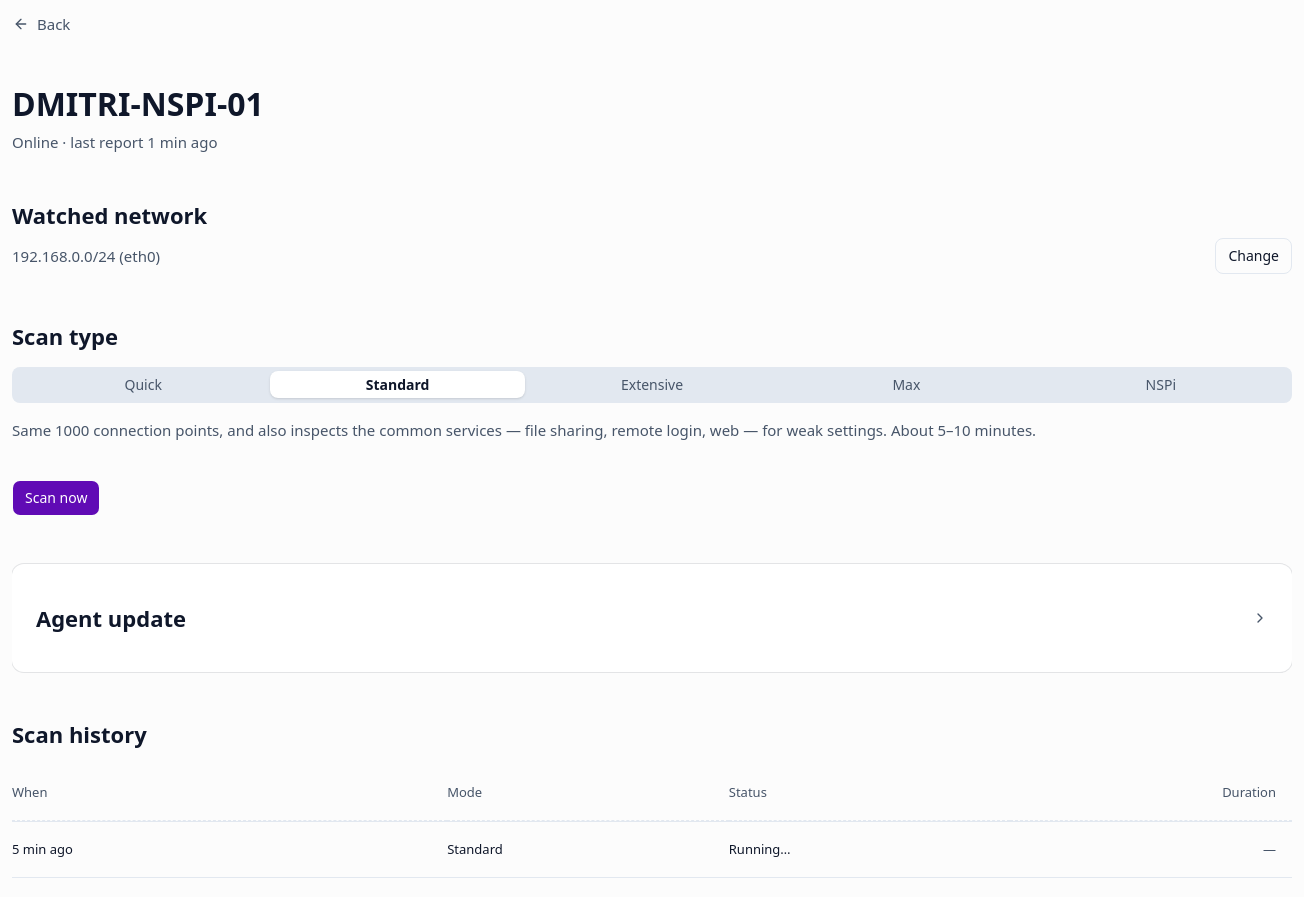
Scenario: DeviceDetail command lifecycle › refusals › toasts a stale-network refusal, re-reads, and returns to the chooser
Step 1. Click the button with test id "agents-scan-now" → (56, 498), box [12,480,100,516]
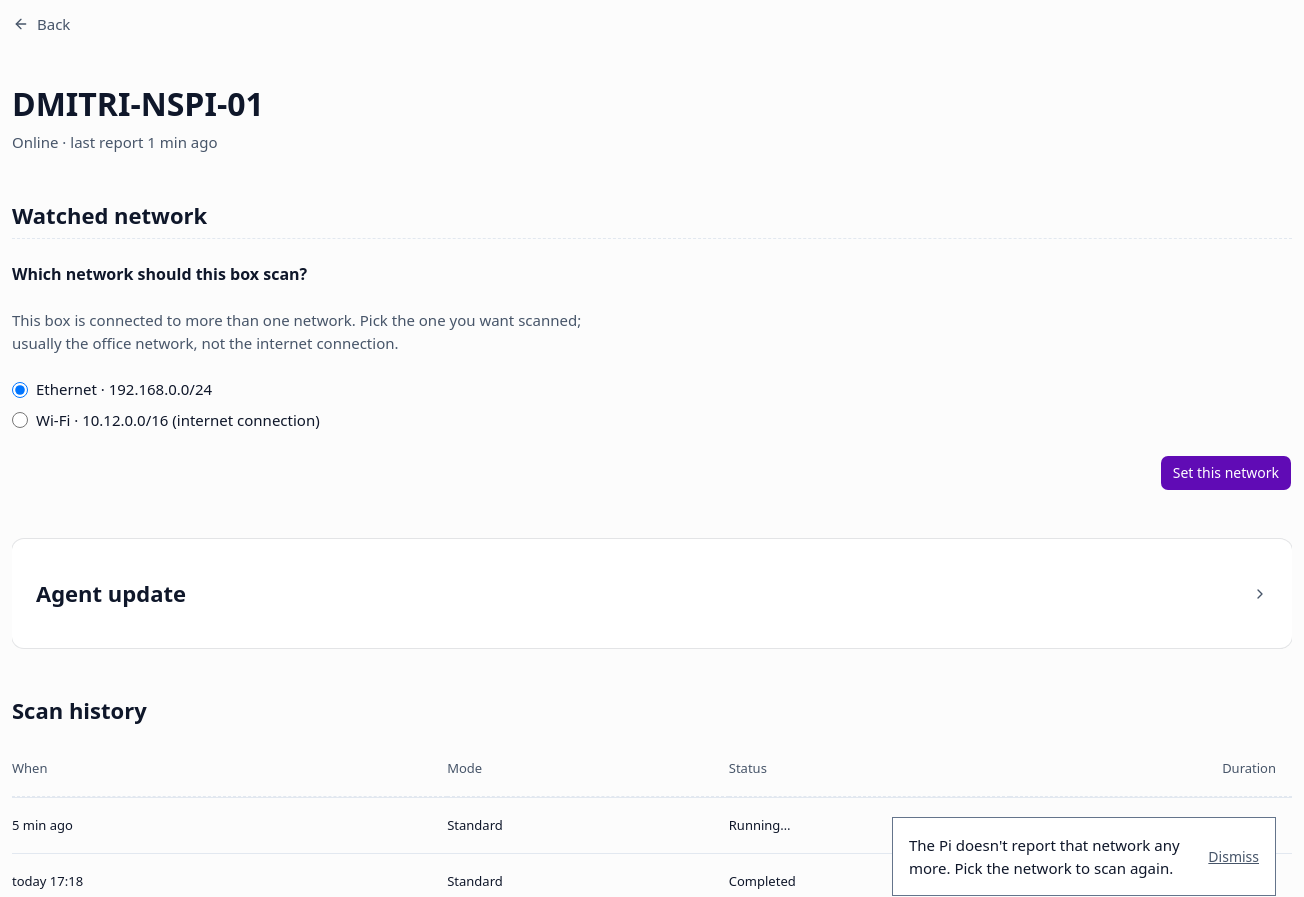
Result: the list item with test id "toast" shows "The Pi doesn't report that network any more. Pick the network to scan again." at [909,835,1180,878]
Result: the button with test id "agents-scan-now" is gone
Result: the form with test id "agents-chooser" is shown at [12,238,1292,491]
